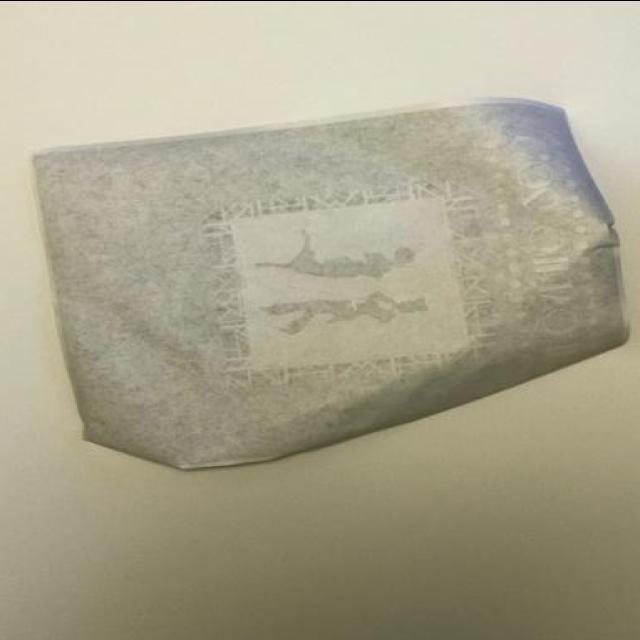kertas: (28, 93, 633, 471)
